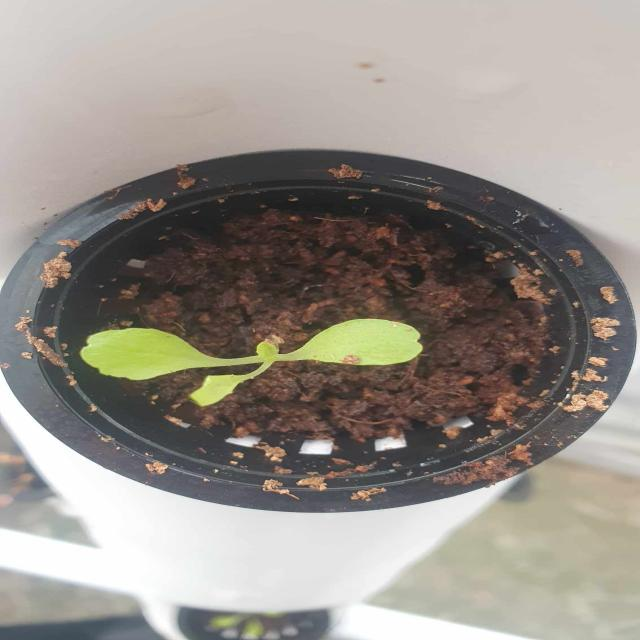Lettuce-Not-Ready-to-Harvest: (70, 292, 432, 413)
